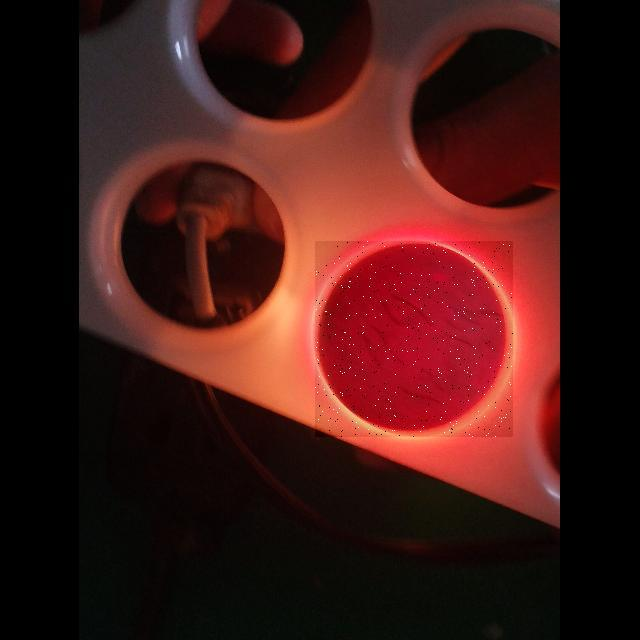Infertile: (315, 241, 513, 437)
